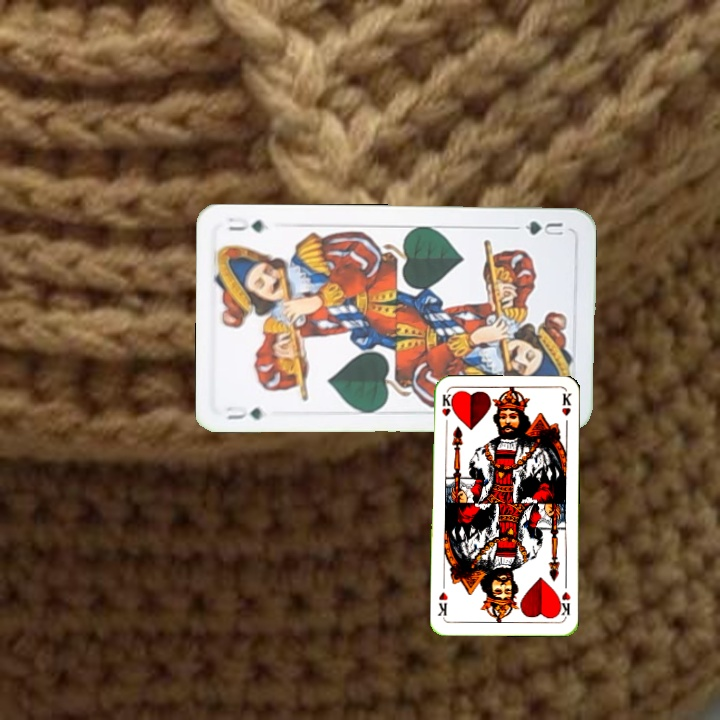GU: (511, 217, 566, 238), (222, 402, 265, 422)
HK: (554, 579, 573, 620), (438, 390, 454, 431)
